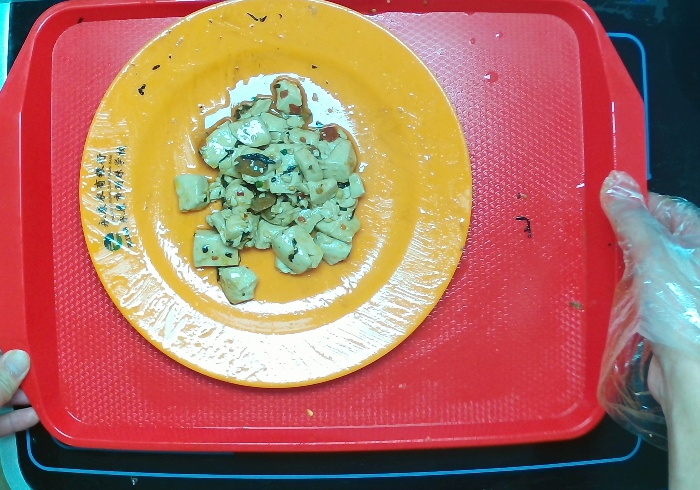YKMZ-Ju_Se_Mian_Pan: (79, 1, 473, 405)
